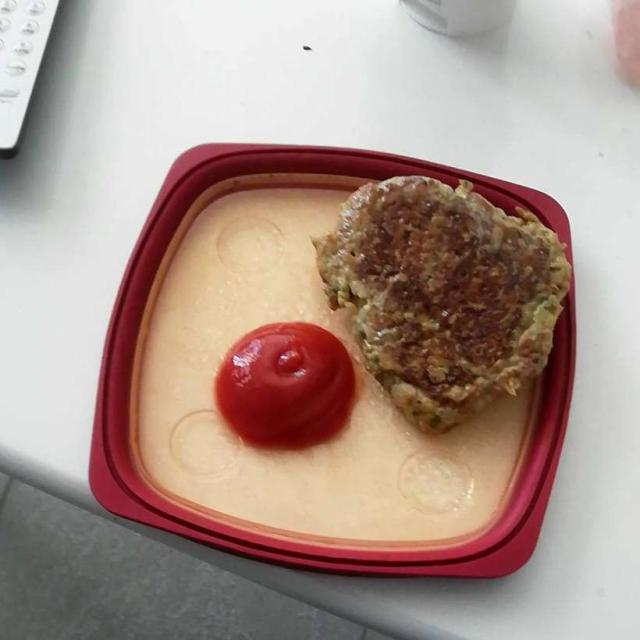chicken: (318, 192, 574, 438)
ketchup: (226, 307, 366, 448)
